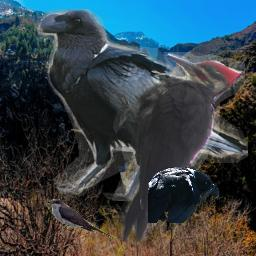Crow: (35, 9, 248, 201), (148, 167, 220, 223)
Cuckoo: (46, 199, 114, 240)
Woodpecker: (110, 52, 245, 242)
